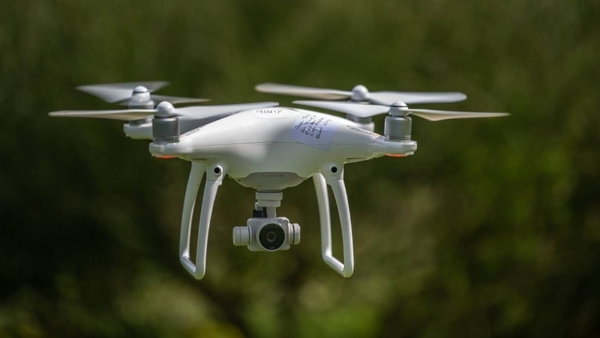drone: (48, 77, 513, 282)
